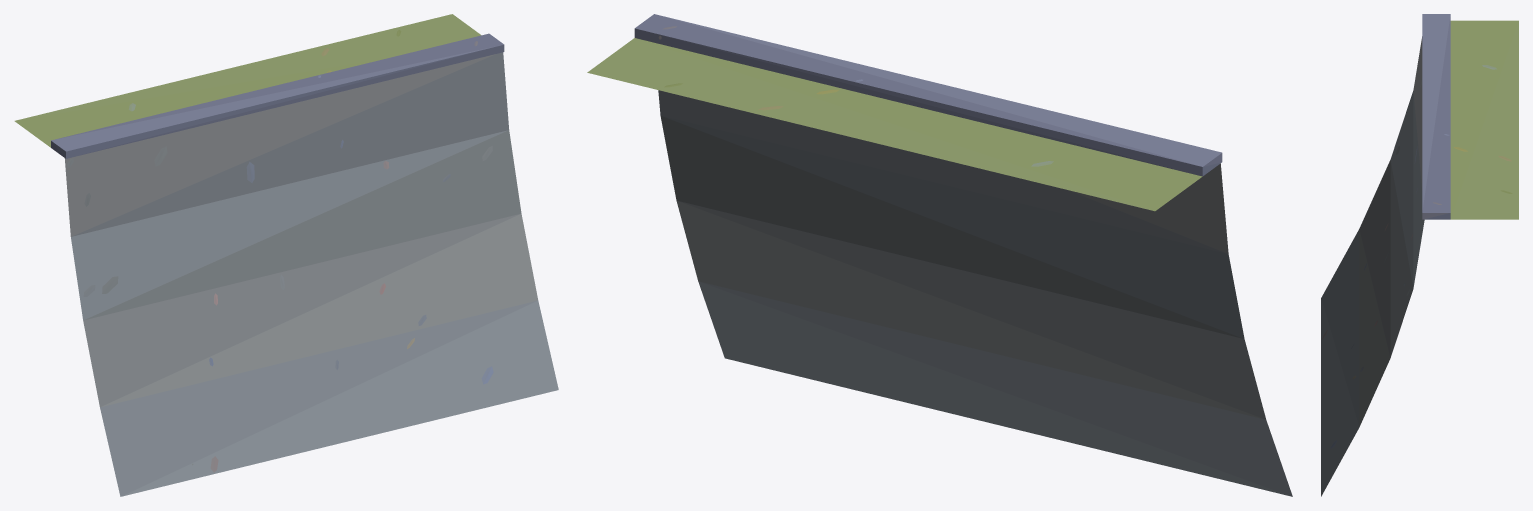
The model's file is HK_Ishigaki_Tall.lod.glb.
The picture shows the model from 3 angles, left to right: view 1: azimuth 30°, elevation 25°; view 2: azimuth 150°, elevation 25°; view 3: azimuth 270°, elevation 25°; orthographic projection. The views are drawn at different scales.
Visible parts, largest first — view 1: HK_Ishigaki_Tall; view 2: HK_Ishigaki_Tall; view 3: HK_Ishigaki_Tall.
Part boxes in pixels (x1,y1,x2,y2): HK_Ishigaki_Tall: (14, 14, 558, 496); HK_Ishigaki_Tall: (587, 14, 1292, 496); HK_Ishigaki_Tall: (1321, 14, 1518, 496).
Size of the model in its own units: 10 by 6.67 by 4.2.
